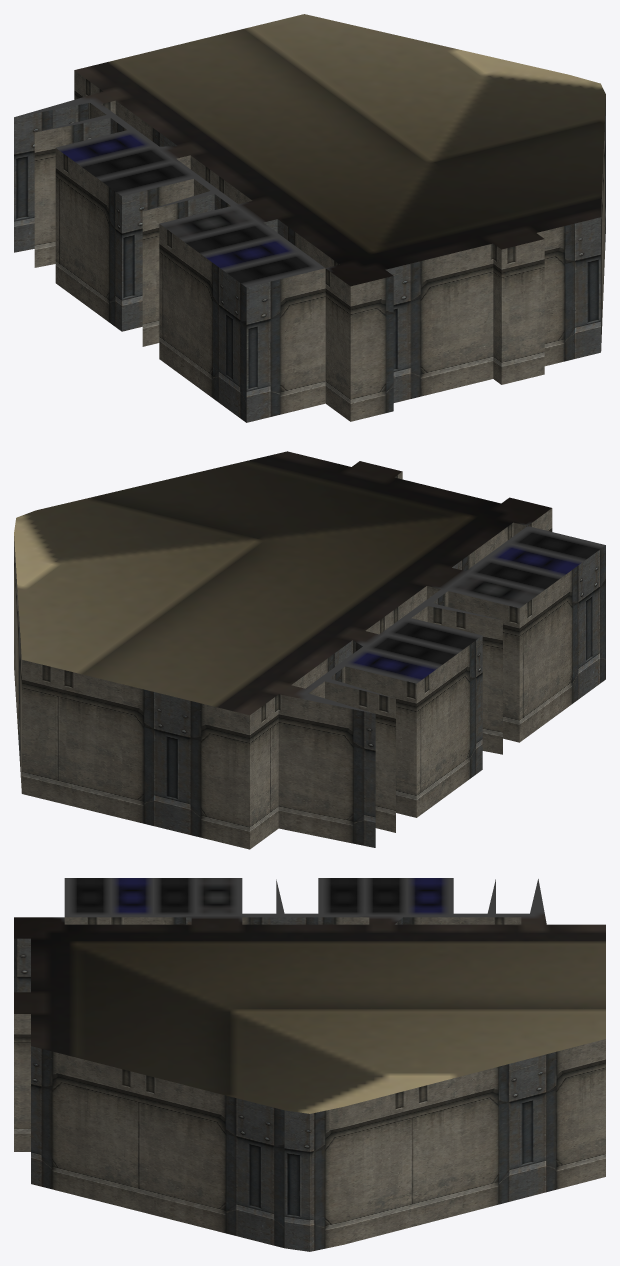
File: BuildingSystem-03-Advance-03-Heavy-7-90-02.glb
The picture shows the model from 3 angles, top to bottom: view 1: azimuth 30°, elevation 25°; view 2: azimuth 150°, elevation 25°; view 3: azimuth 270°, elevation 25°; orthographic projection. The views are drawn at different scales.
Parts seen in each view (by area): view 1: buildings/saxarba/SMV_Buildings/BuildingSystem-03-Advance-03; view 2: buildings/saxarba/SMV_Buildings/BuildingSystem-03-Advance-03; view 3: buildings/saxarba/SMV_Buildings/BuildingSystem-03-Advance-03.
Boxes of the visible parts, bbox=[...] form: buildings/saxarba/SMV_Buildings/BuildingSystem-03-Advance-03: bbox=[14, 14, 605, 422]; buildings/saxarba/SMV_Buildings/BuildingSystem-03-Advance-03: bbox=[14, 451, 605, 849]; buildings/saxarba/SMV_Buildings/BuildingSystem-03-Advance-03: bbox=[14, 878, 605, 1251].
Size of the model in its own units: 66 by 18 by 70.
